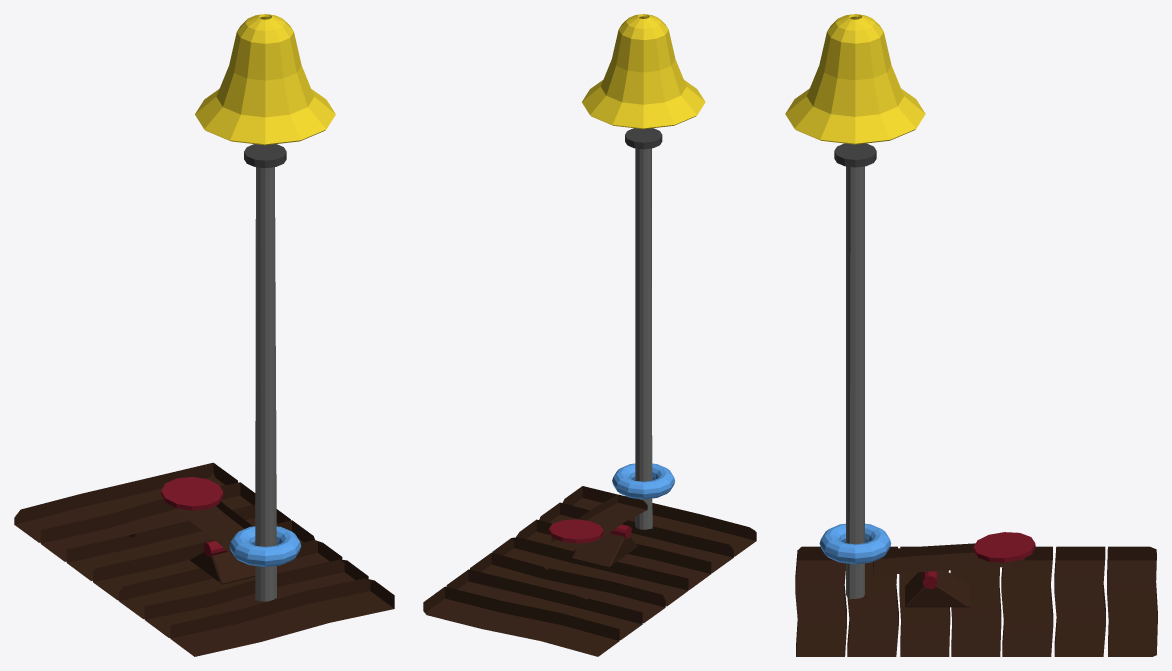
File: Bell.fbx
3 views of the same model, side by side, from view 1: azimuth 30°, elevation 25°; view 2: azimuth 150°, elevation 25°; view 3: azimuth 270°, elevation 25° (orthographic). The views are drawn at different scales.
Visible parts, largest first — view 1: Plane.022, Torus; view 2: Plane.022, Torus; view 3: Plane.022, Torus.
Boxes of the visible parts, x1,y1,x2,y2 form: Plane.022: (14,14,394,656); Torus: (229,526,301,566); Plane.022: (423,14,756,656); Torus: (612,463,674,499); Plane.022: (785,14,1157,656); Torus: (819,523,891,564).
Size of the model in its own units: 282 by 806 by 459.
Materials: 2 (2 with a texture image).
